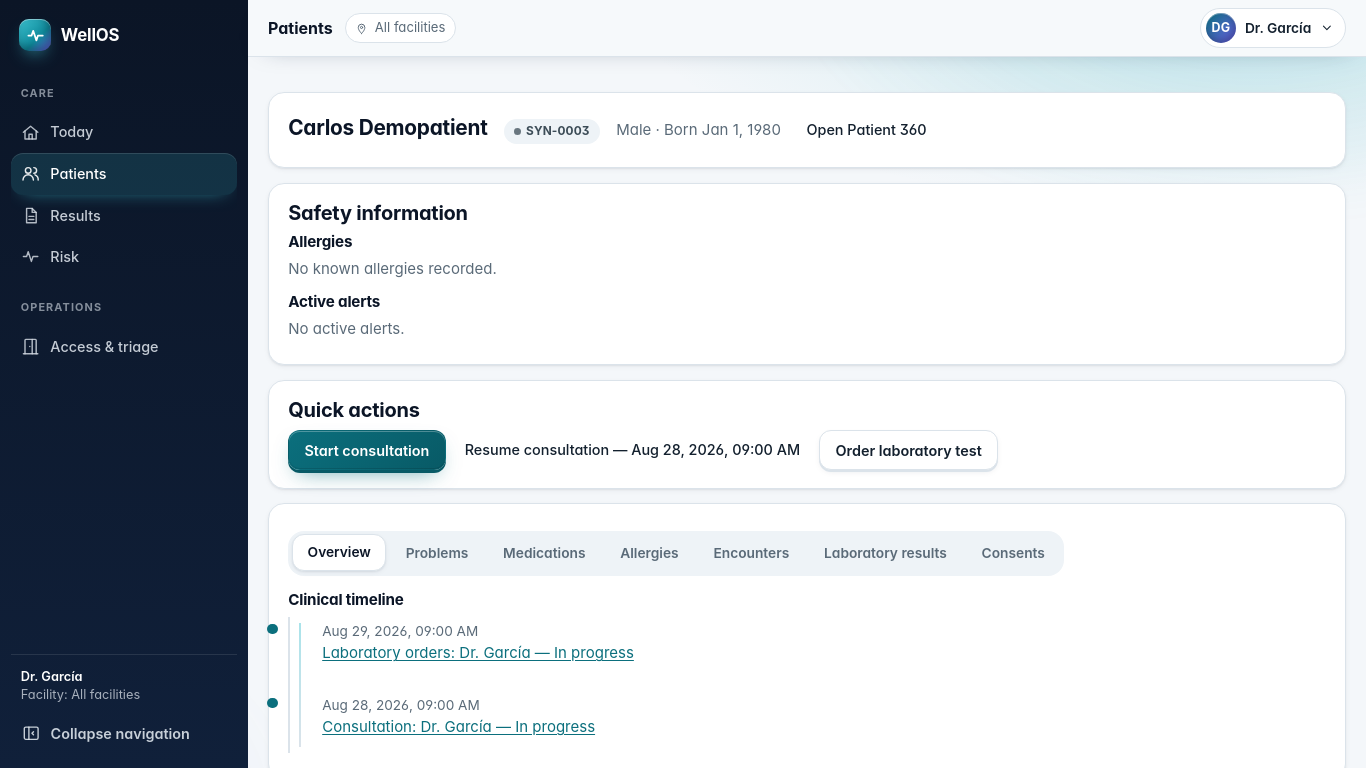
Test: patient chart clinical actions › offers a genuine draft consultation for resumption
The width and height of the screenshot is (1366, 768).
Click the tab "Encounters". click: (751, 554)
box: [698,535,805,572]
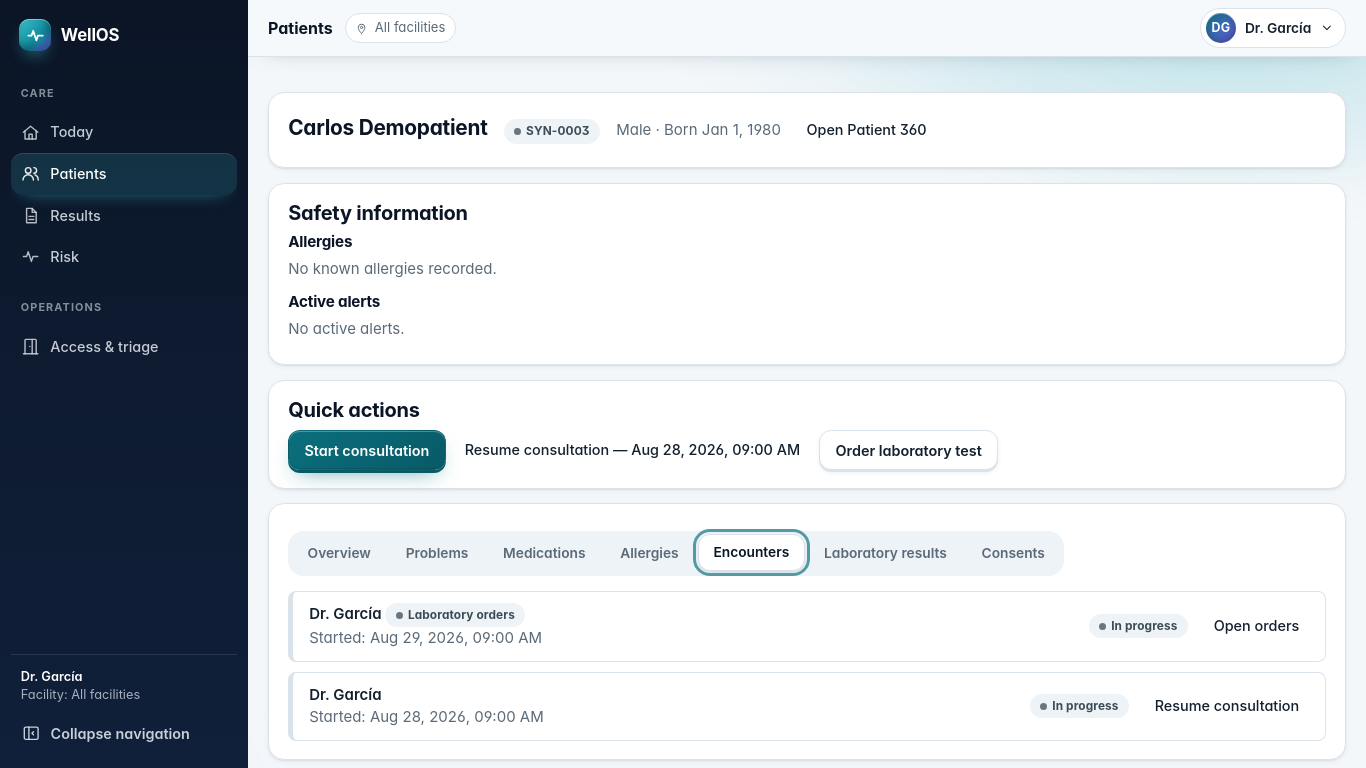
Expected: the number of links "Resume consultation — Aug 28, 2026, 09:00 AM" is 2, [465,441,800,458]; [1155,698,1299,714]
